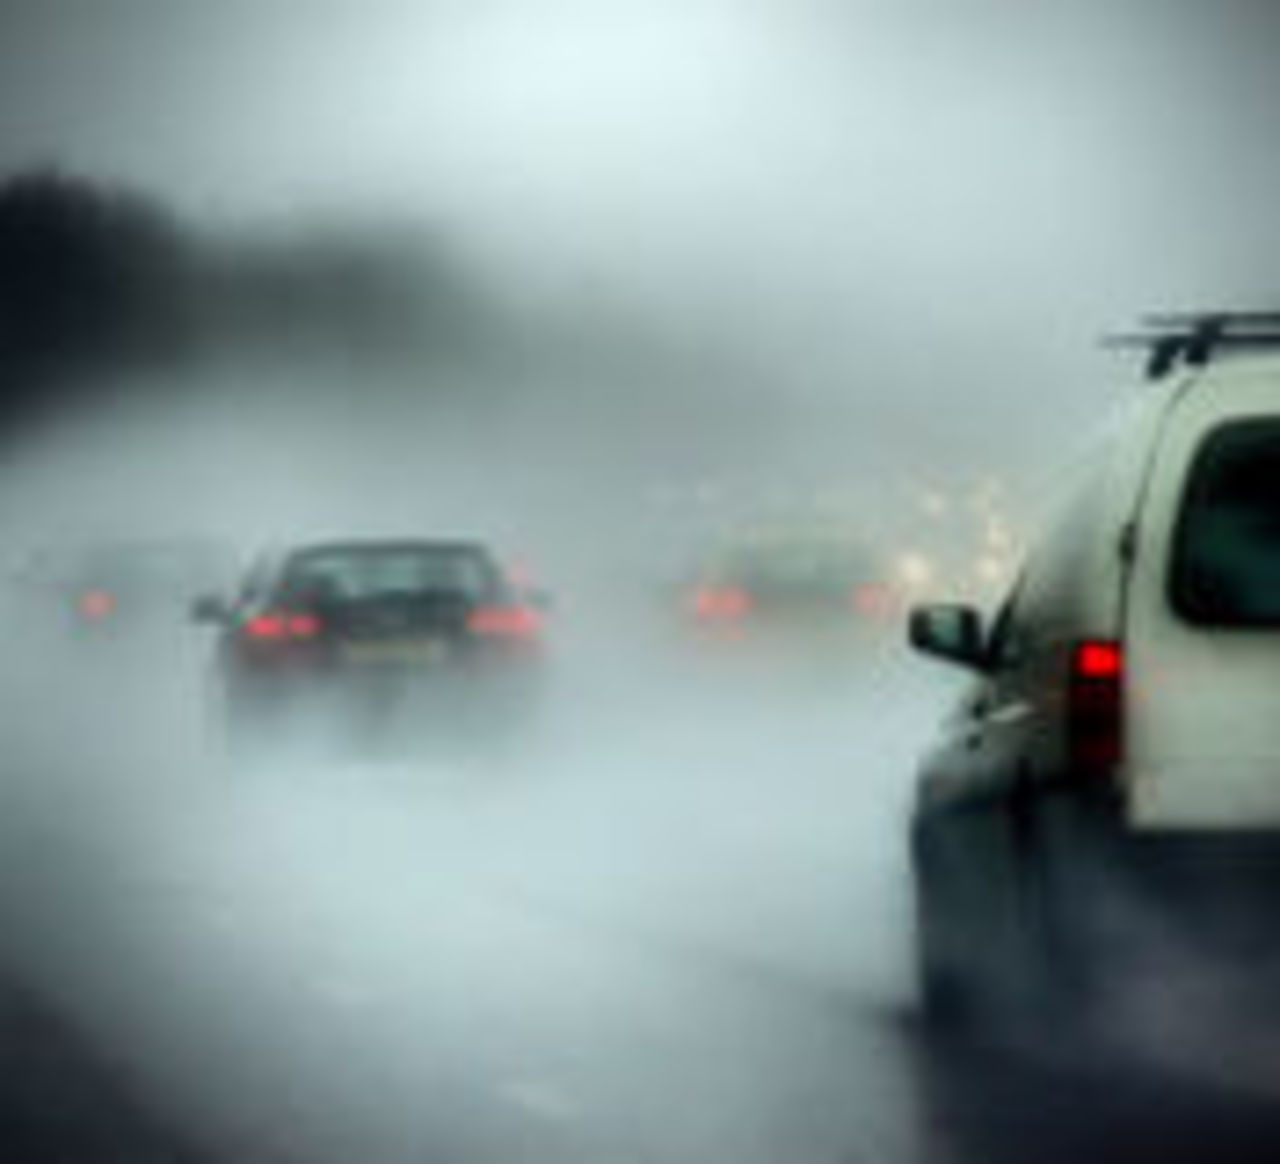car: (909, 310, 1276, 1153), (197, 535, 556, 797), (667, 520, 898, 701), (67, 539, 240, 676)
